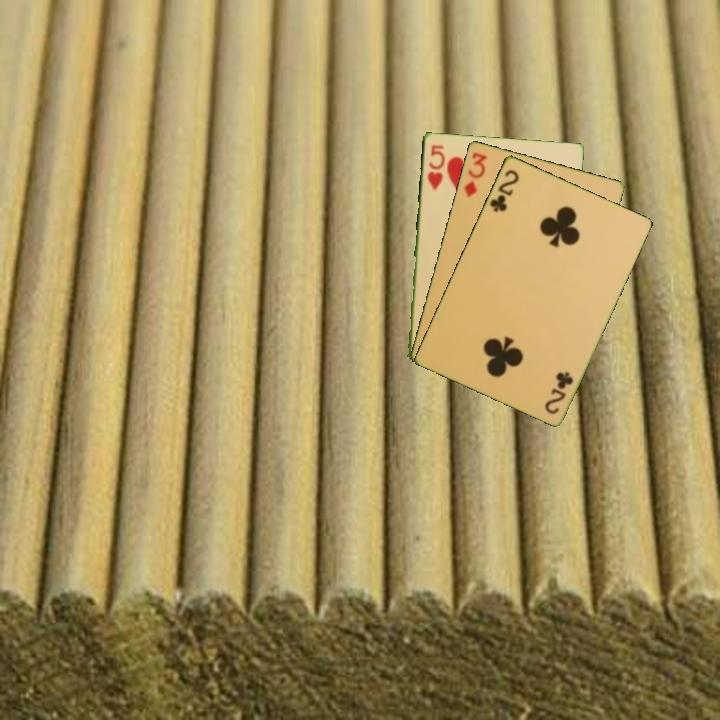2c: (486, 165, 522, 215), (541, 367, 576, 417)
3d: (460, 148, 490, 200)
5h: (423, 141, 447, 193)
